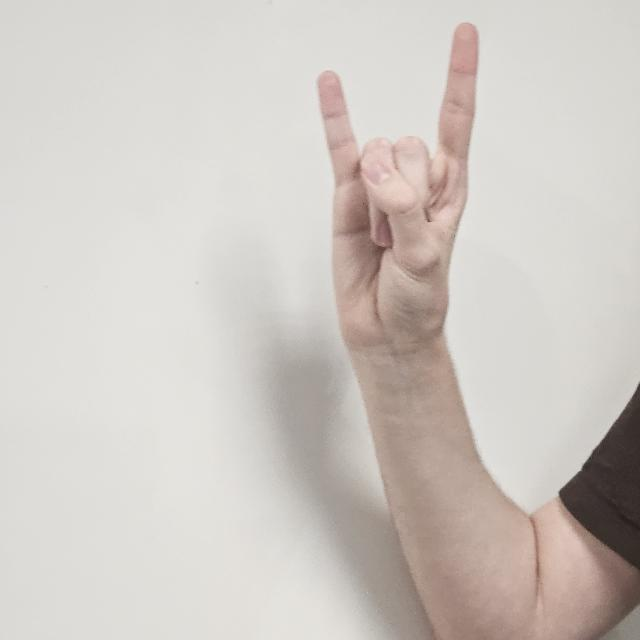L: (312, 20, 476, 358)
